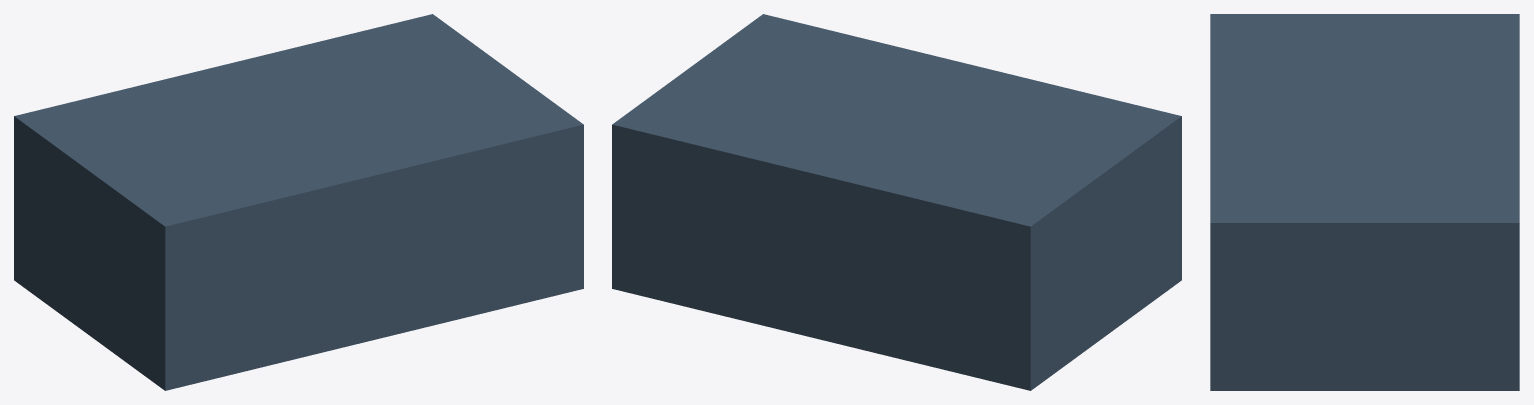
Rendered from condenser.glb.
3 views of the same model, side by side, from view 1: azimuth 30°, elevation 25°; view 2: azimuth 150°, elevation 25°; view 3: azimuth 270°, elevation 25° (orthographic). The views are drawn at different scales.
Bounding box in the file's own units: 16 × 6 × 10.
